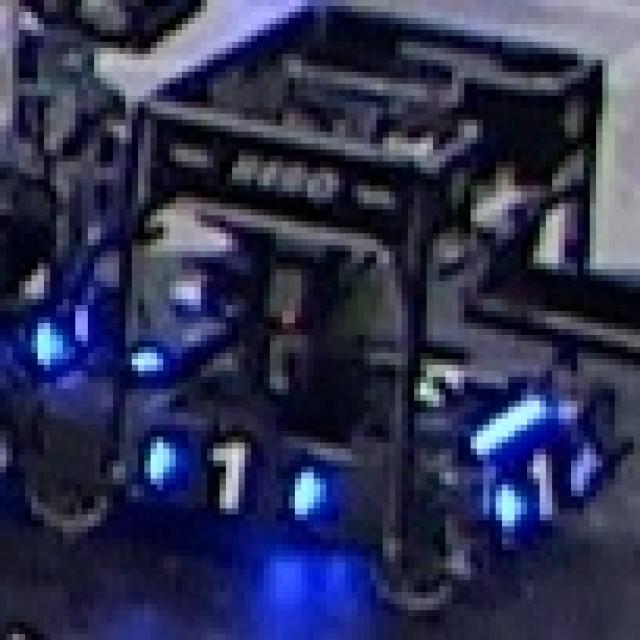B1: (138, 425, 326, 520), (489, 443, 590, 532)
